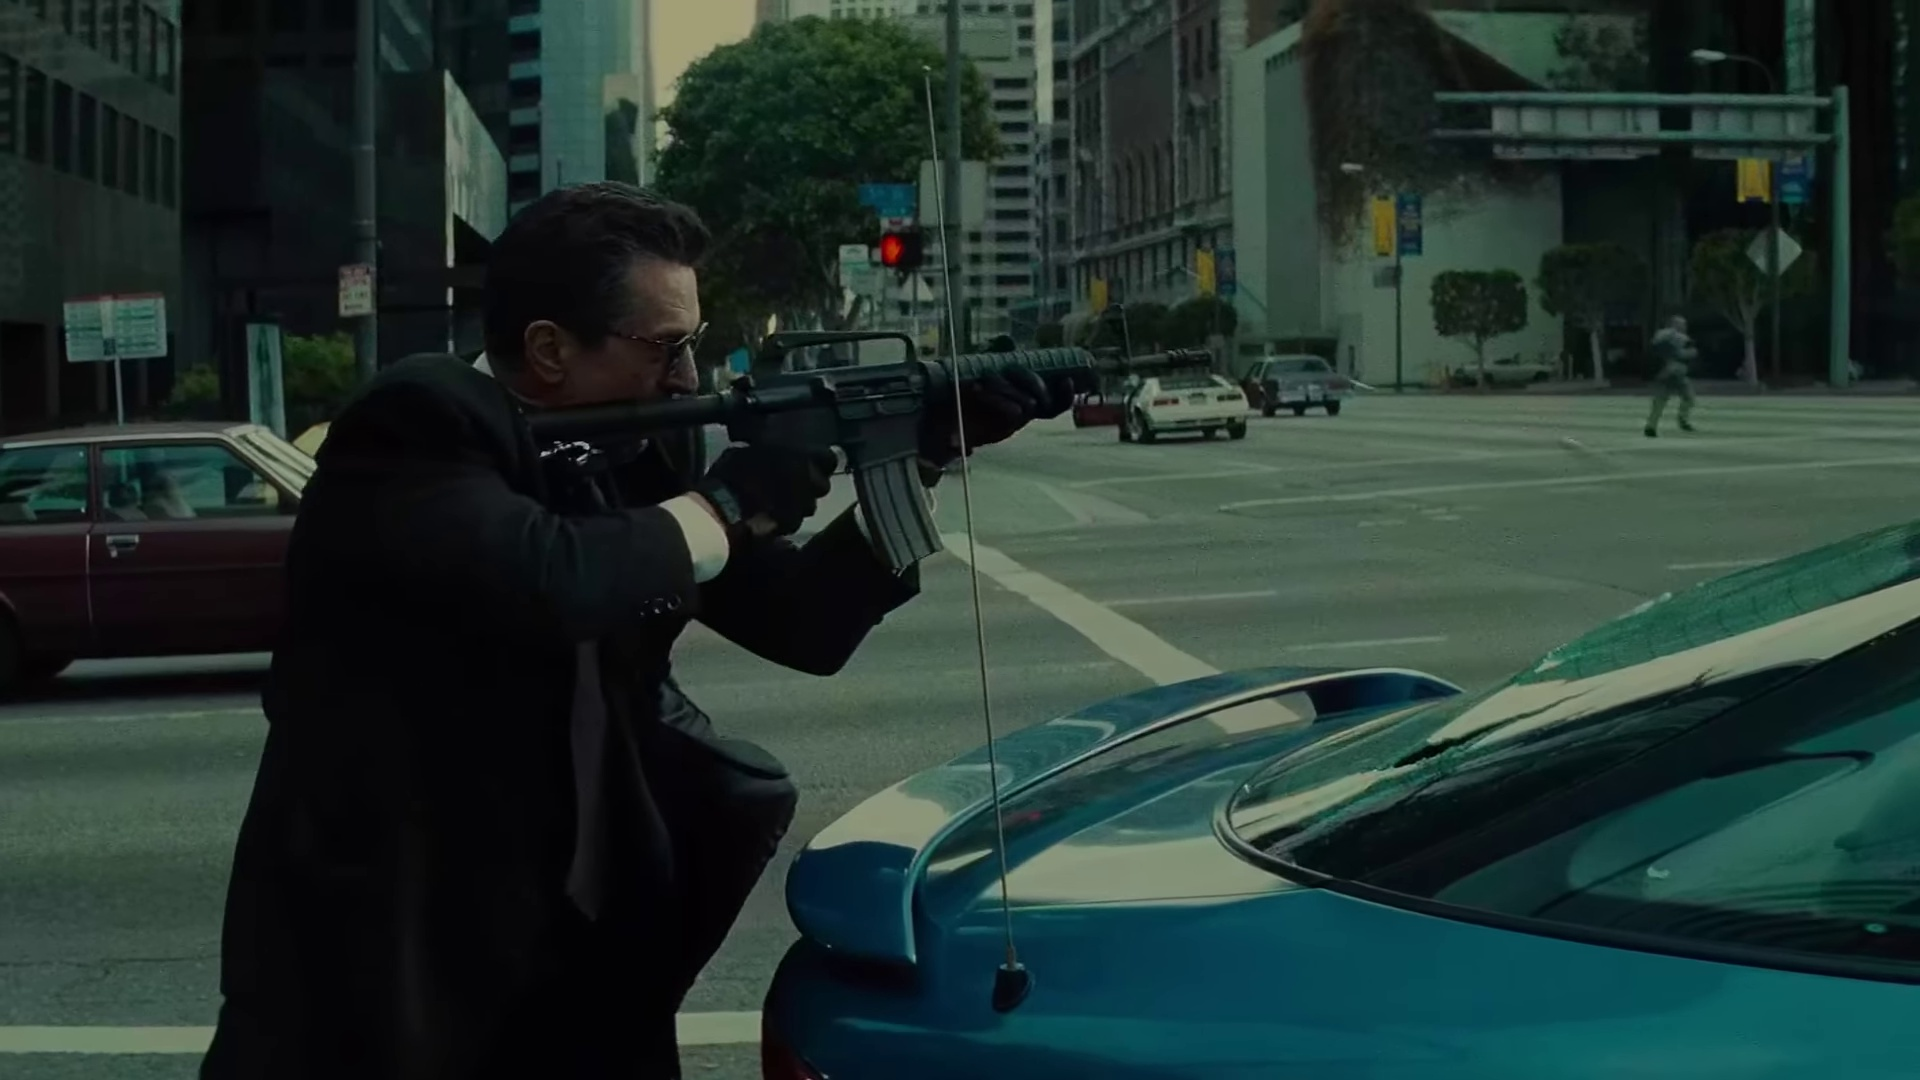gun: (520, 314, 1228, 589)
p_w_gun: (198, 178, 1226, 1059)
p_wo_gun_not_carrying_normal_pose: (1642, 311, 1701, 439)
